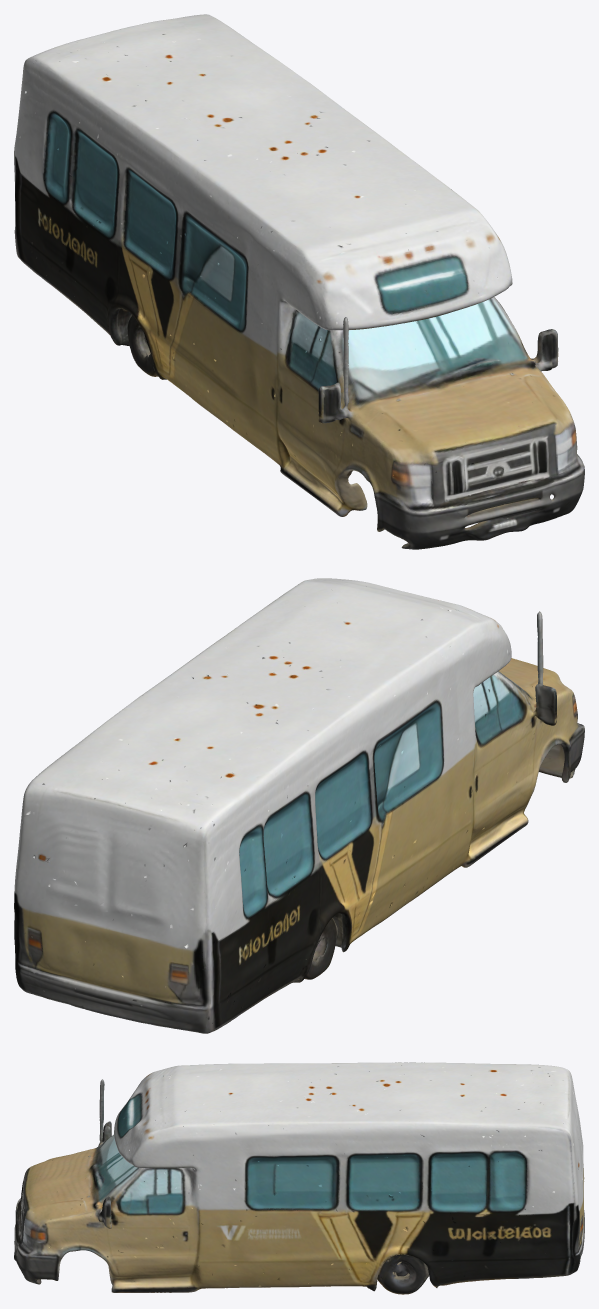
File: Campus_Shuttle_Bus_0317202425_texture.glb
The picture shows the model from 3 angles, top to bottom: view 1: azimuth 30°, elevation 25°; view 2: azimuth 150°, elevation 25°; view 3: azimuth 270°, elevation 25°; orthographic projection. The views are drawn at different scales.
Size of the model in its own units: 0.6885 by 0.6807 by 2.
Materials: 1 (1 with a texture image).
